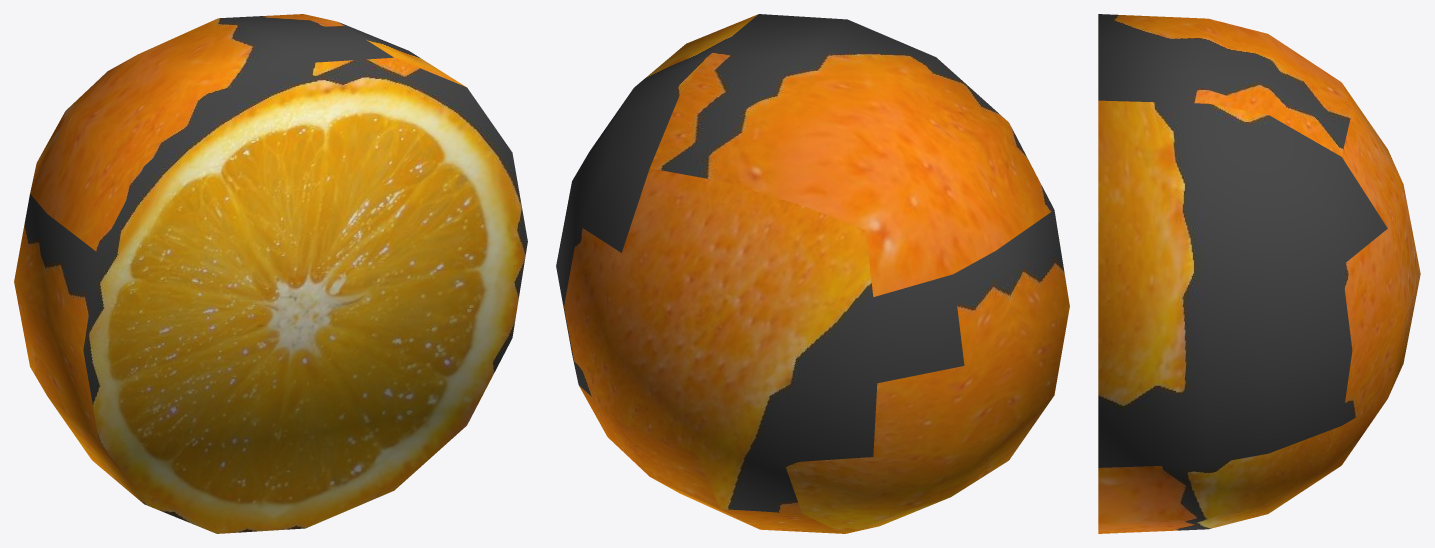
3 renders of one model, left to right at view 1: azimuth 30°, elevation 25°; view 2: azimuth 150°, elevation 25°; view 3: azimuth 270°, elevation 25°, orthographic.
Bounding box in the file's own units: 1 × 1 × 0.6274.
